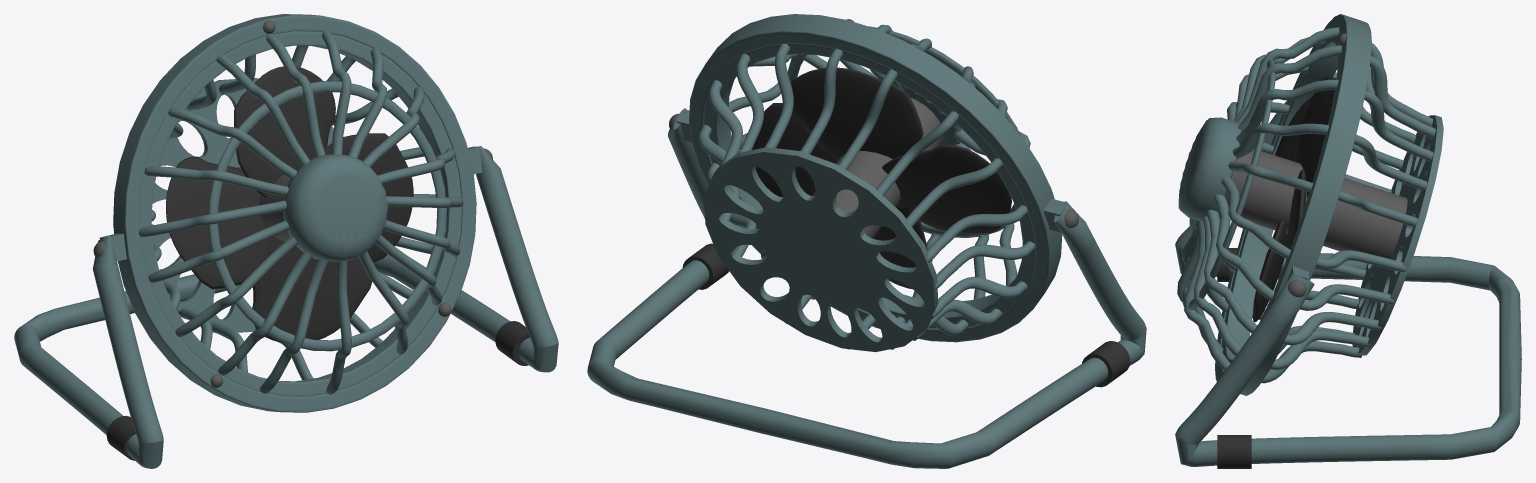
The model's file is DeskFan.fbx.
3 renders of one model, left to right at view 1: azimuth 30°, elevation 25°; view 2: azimuth 150°, elevation 25°; view 3: azimuth 270°, elevation 25°, orthographic. The views are drawn at different scales.
Parts seen in each view (by area): view 1: pCylinder73, pSphere8; view 2: pCylinder73, pSphere8; view 3: pCylinder73, pSphere8.
Boxes of the visible parts, x1,y1,x2,y2 form: pCylinder73: (14,14,558,468); pSphere8: (166,66,413,343); pCylinder73: (587,14,1146,468); pSphere8: (752,67,1011,288); pCylinder73: (1175,14,1521,468); pSphere8: (1218,76,1407,322).
Size of the model in its own units: 18.9 by 15 by 13.74.
